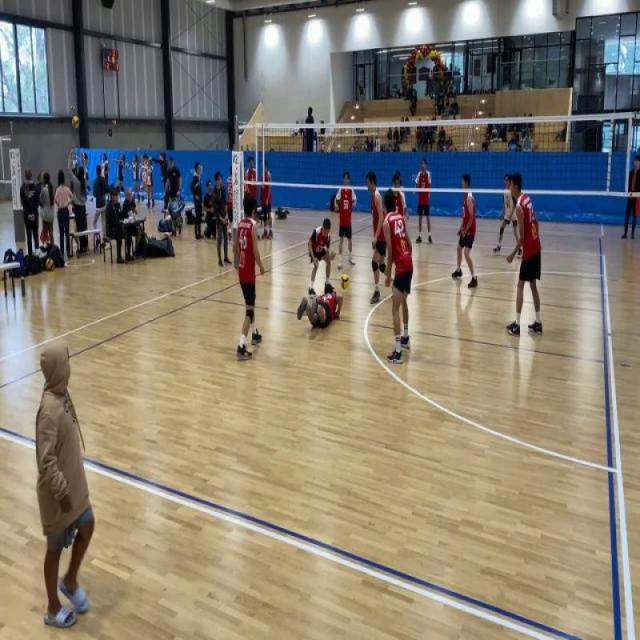volleyball: (340, 273, 350, 291), (71, 114, 80, 130), (46, 256, 54, 272), (70, 102, 77, 114), (124, 162, 130, 171), (147, 233, 154, 240), (163, 232, 171, 238), (139, 184, 144, 192), (112, 119, 116, 128)
